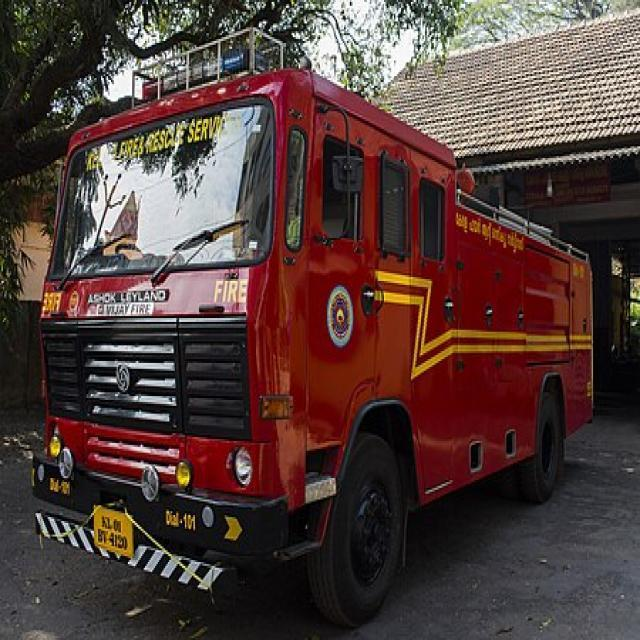Ambulance: (27, 25, 600, 630), (0, 400, 639, 638)
